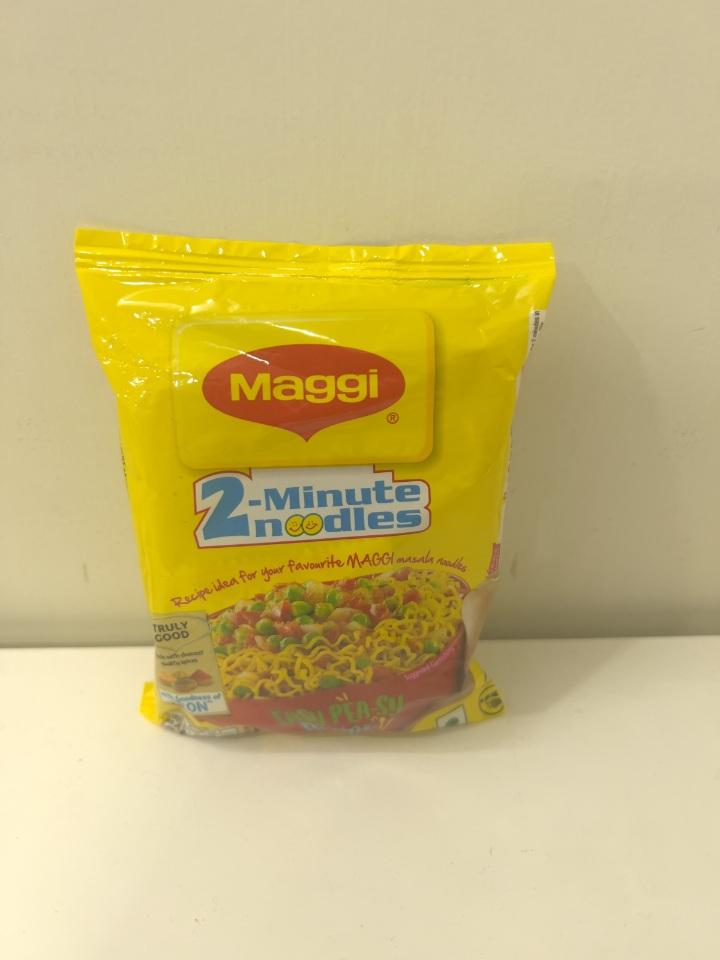Maggi: (77, 233, 559, 761)
